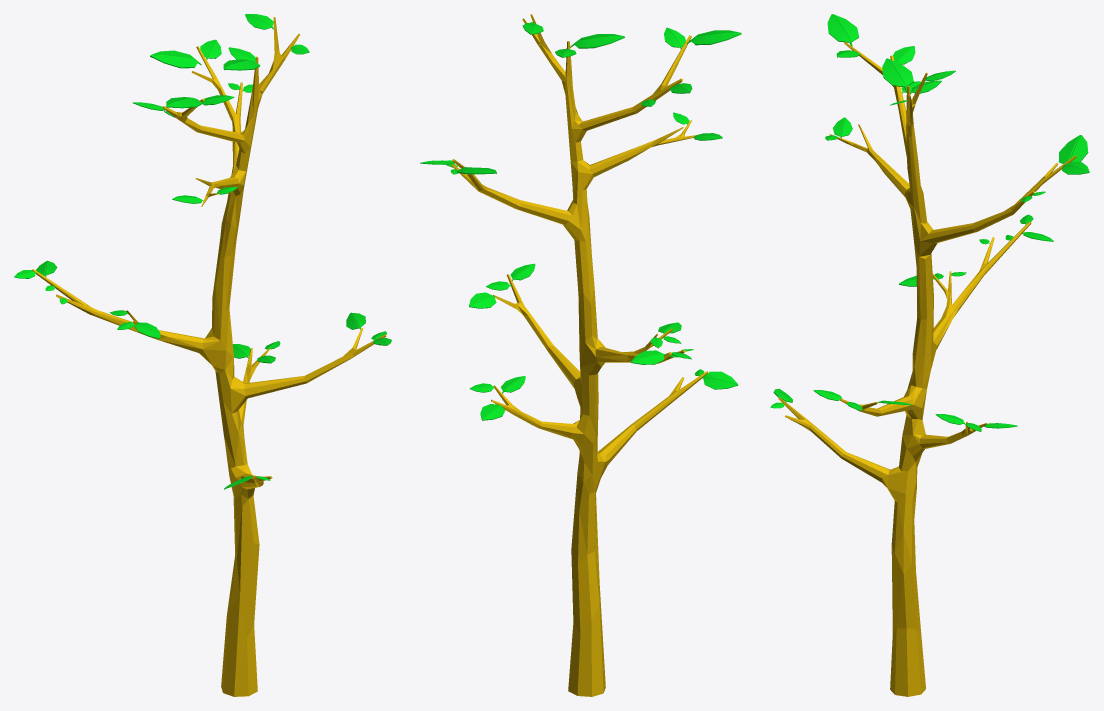
File: TREE_BIG.fbx
The picture shows the model from 3 angles, left to right: view 1: azimuth 30°, elevation 25°; view 2: azimuth 150°, elevation 25°; view 3: azimuth 270°, elevation 25°; orthographic projection. The views are drawn at different scales.
Parts seen in each view (by area): view 1: TREE_BIG, FEUILLE_BIG; view 2: TREE_BIG, FEUILLE_BIG; view 3: TREE_BIG, FEUILLE_BIG.
Boxes of the visible parts, x1=… form: TREE_BIG: x1=32, y1=17, x2=386, y2=696; FEUILLE_BIG: x1=14, y1=14, x2=391, y2=489; TREE_BIG: x1=451, y1=14, x2=707, y2=696; FEUILLE_BIG: x1=420, y1=22, x2=741, y2=420; TREE_BIG: x1=778, y1=42, x2=1076, y2=696; FEUILLE_BIG: x1=770, y1=14, x2=1089, y2=431.
Bounding box in the file's own units: 715 × 1562 × 709.
